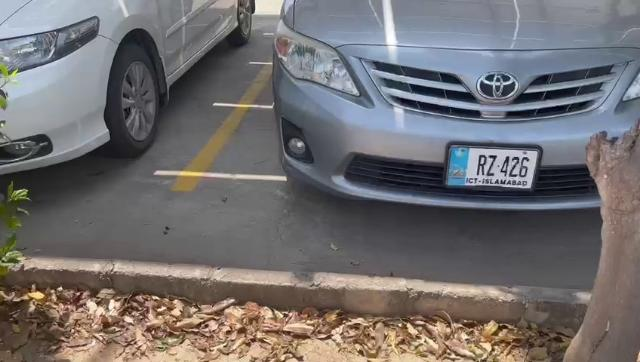plate: (446, 145, 542, 192)
